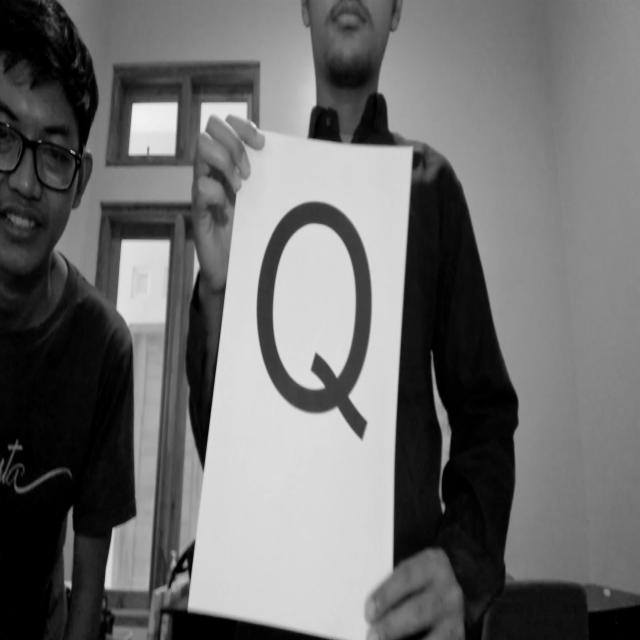q: (244, 175, 390, 453)
